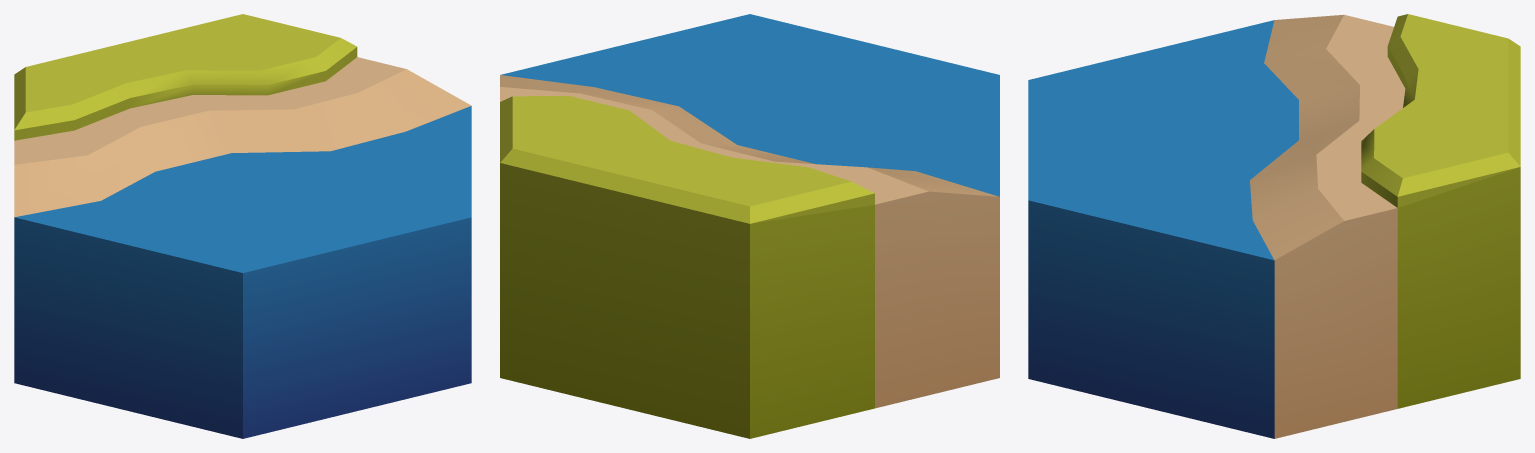
The model's file is hex_coast_3.glb.
3 renders of one model, left to right at view 1: azimuth 30°, elevation 25°; view 2: azimuth 150°, elevation 25°; view 3: azimuth 270°, elevation 25°, orthographic. The views are drawn at different scales.
Visible parts, largest first — view 1: hex_coast_3; view 2: hex_coast_3; view 3: hex_coast_3.
Part boxes in pixels (<box>): hex_coast_3: <box>14,14,471,438</box>; hex_coast_3: <box>500,14,999,438</box>; hex_coast_3: <box>1028,14,1520,438</box>.
Size of the model in its own units: 1.15 by 0.5 by 1.
Materials: 1 (1 with a texture image).
